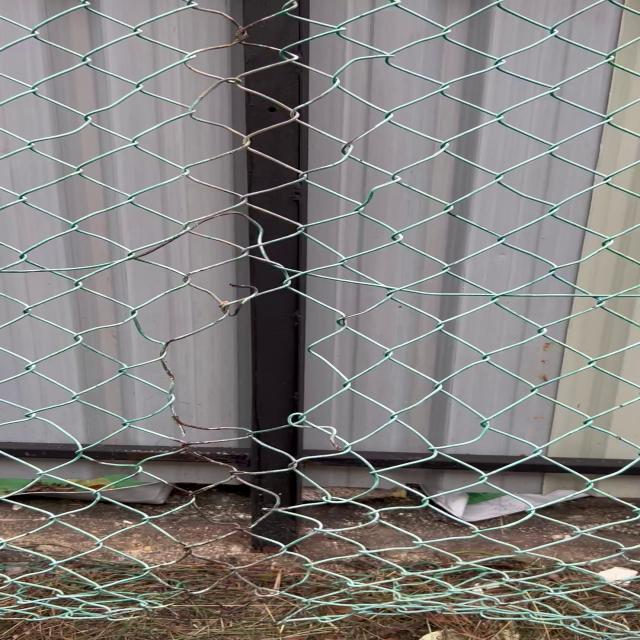fence line: (157, 282, 359, 439)
